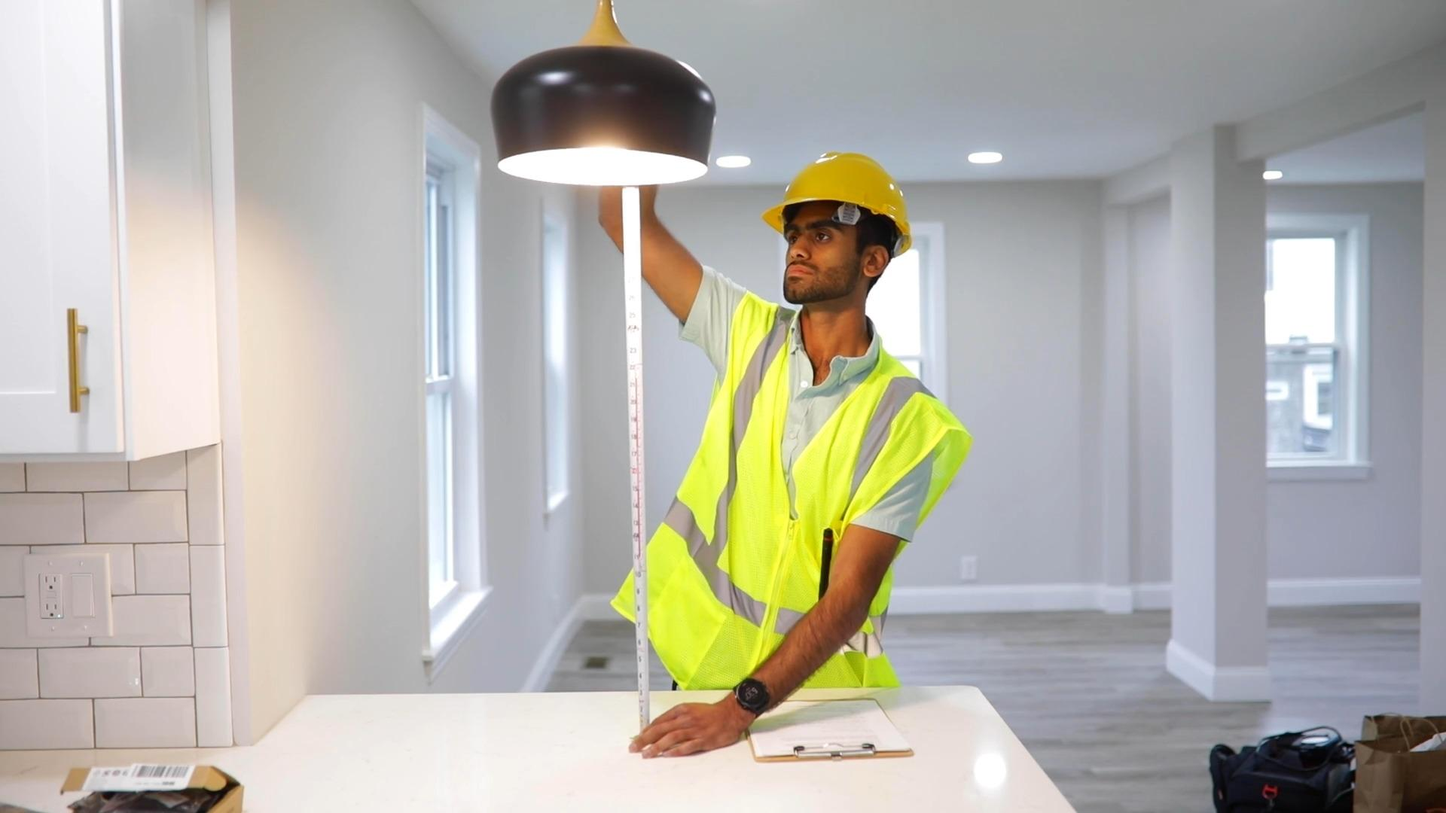Helmet: (760, 141, 929, 232)
Person: (596, 151, 973, 759)
Safety Vest: (719, 335, 888, 662)
bare-arms: (643, 677, 768, 769)
no-boot: (1208, 724, 1356, 811)
